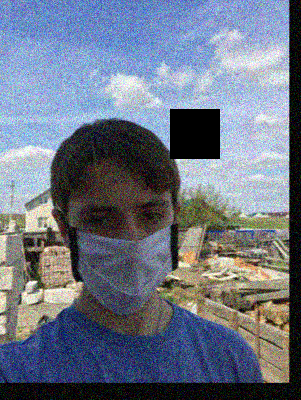with_mask: (66, 181, 179, 315)
